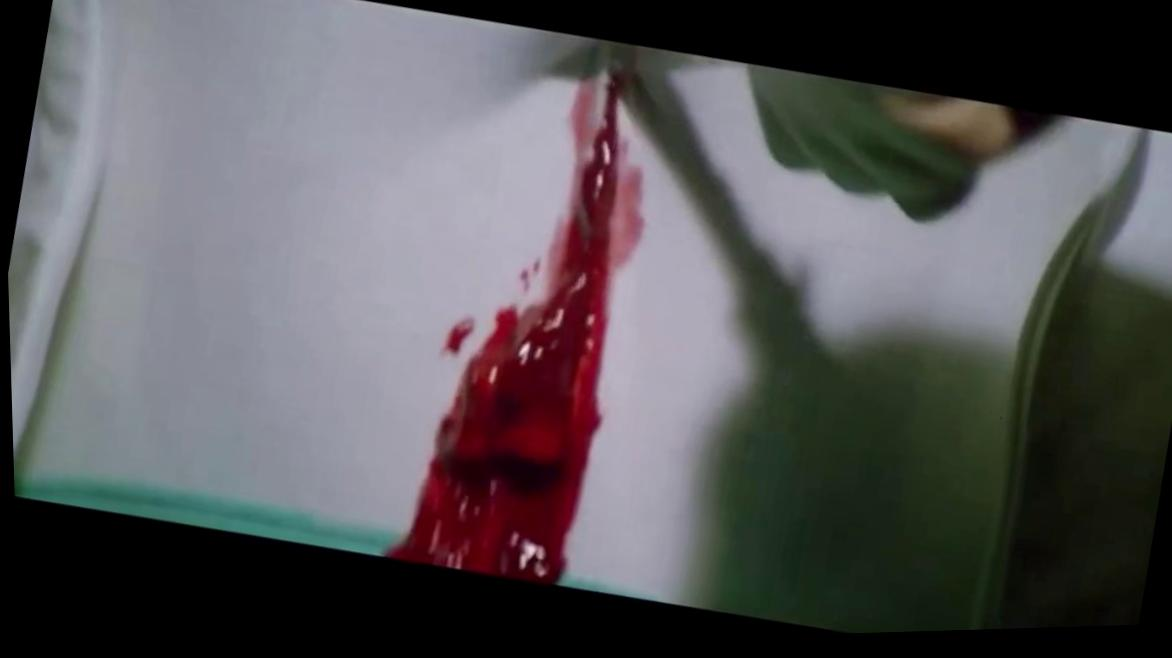Fire: (385, 75, 641, 587)
